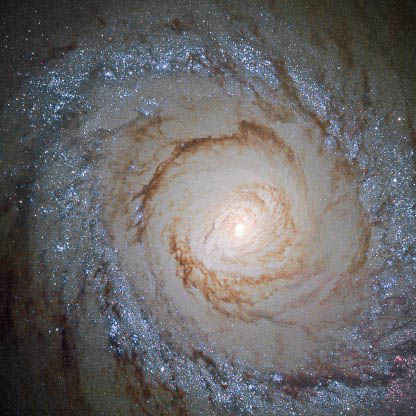Messier 94: (23, 22, 407, 398)
